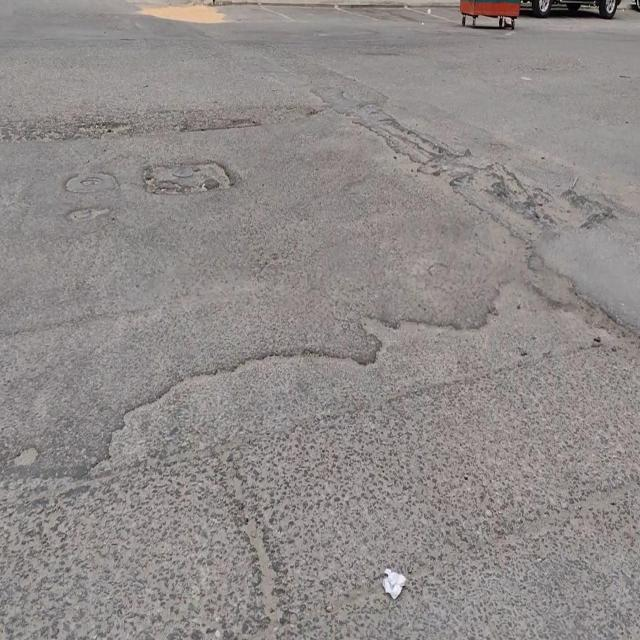Pothole: (142, 157, 236, 199)
